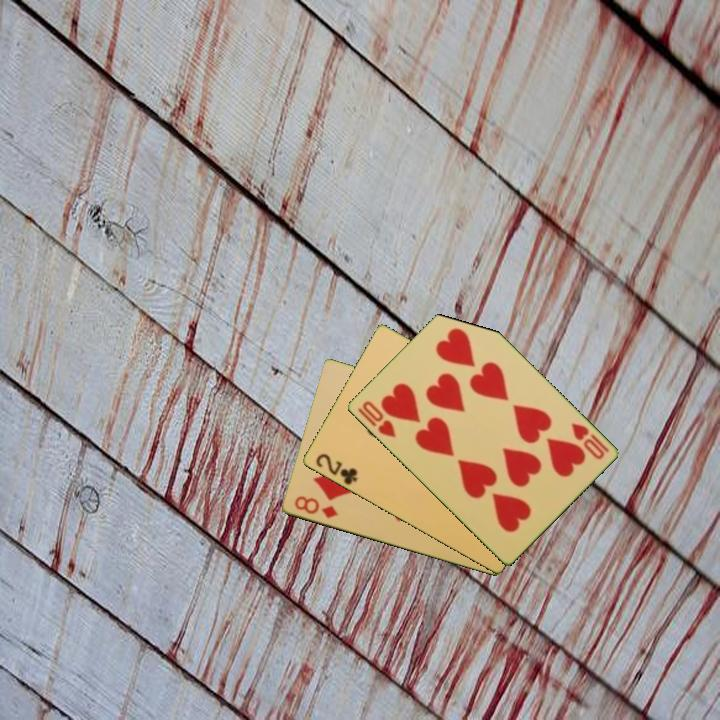10h: (353, 397, 399, 441), (567, 419, 612, 462)
2c: (312, 450, 360, 488)
8d: (290, 492, 341, 521)
